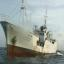fishing boat: (0, 0, 58, 59)
